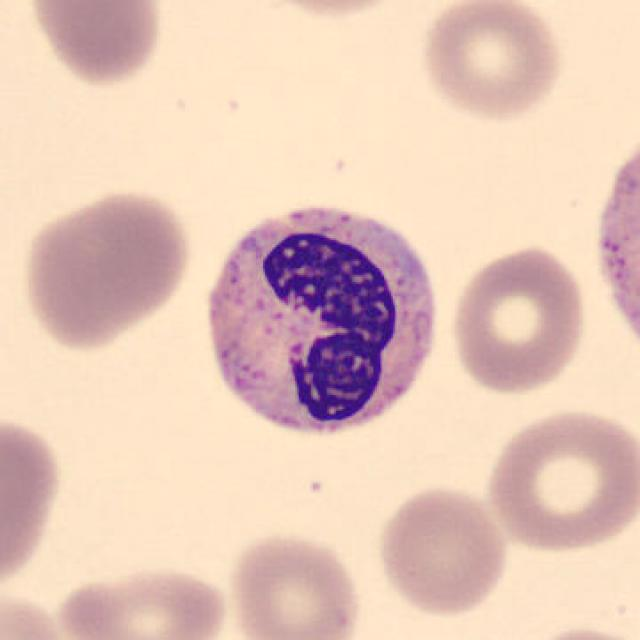Neutrophil: (204, 202, 442, 441), (581, 112, 640, 373)
RBC: (16, 183, 196, 354), (482, 404, 638, 555), (444, 240, 590, 398), (372, 481, 512, 621), (416, 0, 569, 123), (222, 529, 366, 640), (51, 560, 234, 640), (0, 406, 68, 601), (21, 0, 167, 90), (0, 583, 82, 640), (240, 0, 416, 21), (516, 622, 636, 640)
